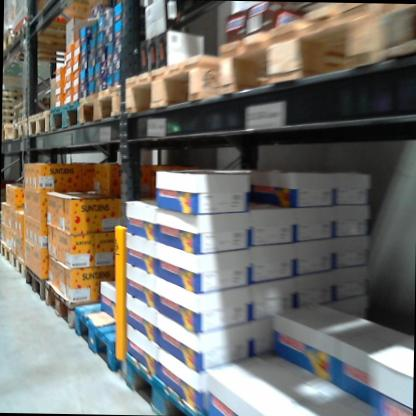pallet: (216, 1, 412, 109), (117, 37, 233, 129), (112, 351, 205, 416), (69, 299, 127, 376), (38, 272, 99, 337), (79, 65, 128, 131), (6, 13, 77, 51), (48, 92, 85, 136), (21, 258, 44, 306), (30, 109, 53, 141), (6, 248, 25, 286), (12, 117, 31, 149), (3, 121, 20, 145), (0, 240, 10, 269)
